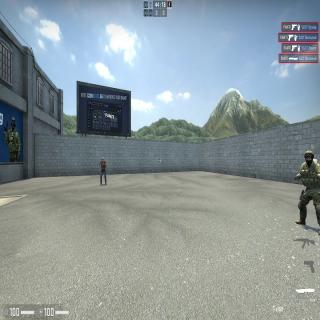CT-Body: (298, 148, 319, 226)
CT-Head: (304, 149, 314, 164)
T-Body: (100, 157, 106, 185)
T-Head: (102, 157, 104, 162)
